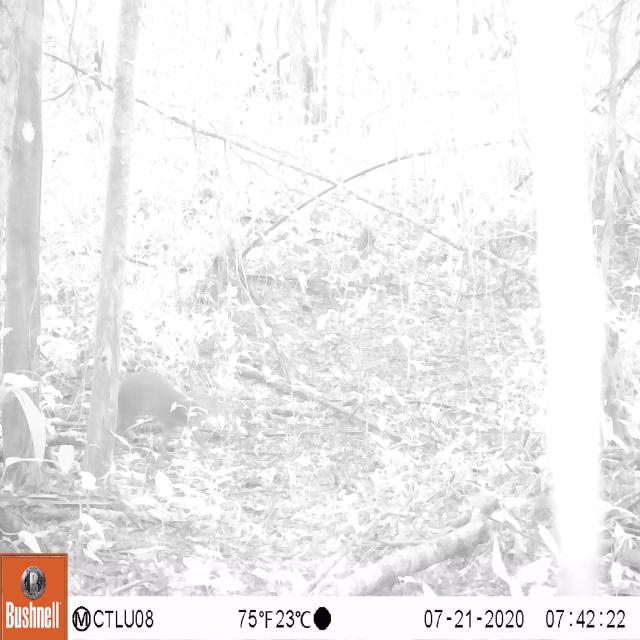Black Agouti: (81, 363, 202, 479)
